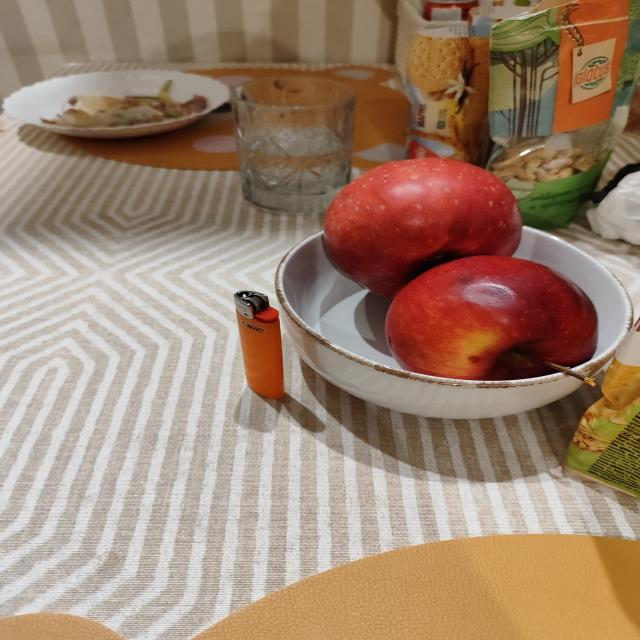lighter: (234, 291, 285, 399)
